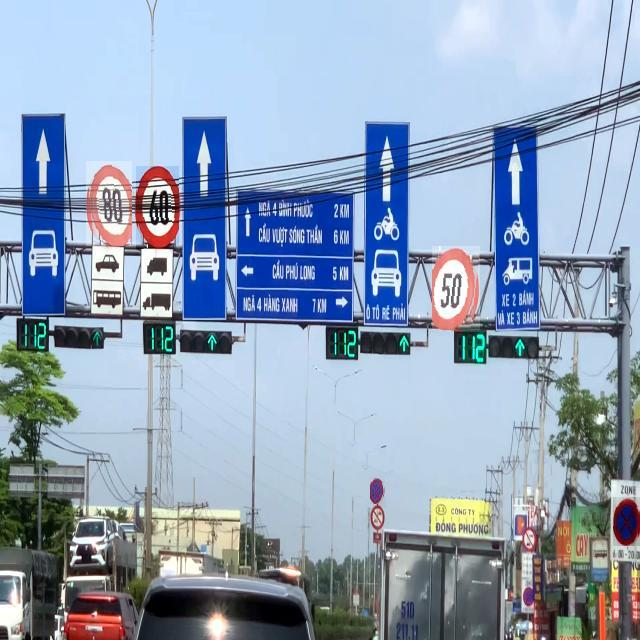P-127: (432, 247, 480, 331), (86, 161, 132, 246), (136, 166, 179, 249)
P-130: (613, 497, 640, 546), (370, 476, 385, 504)
